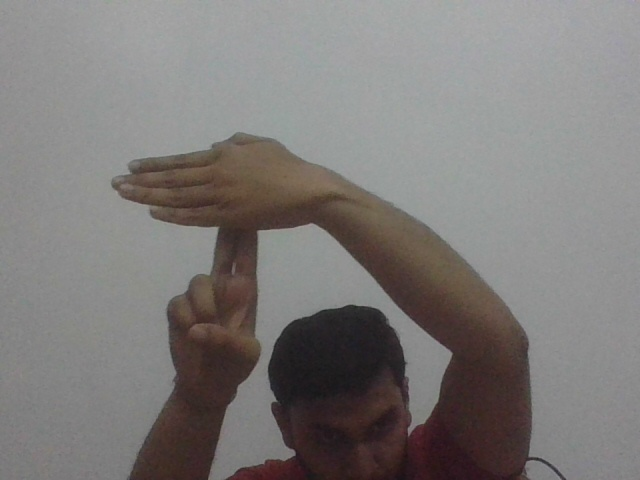N: (106, 128, 310, 271)
